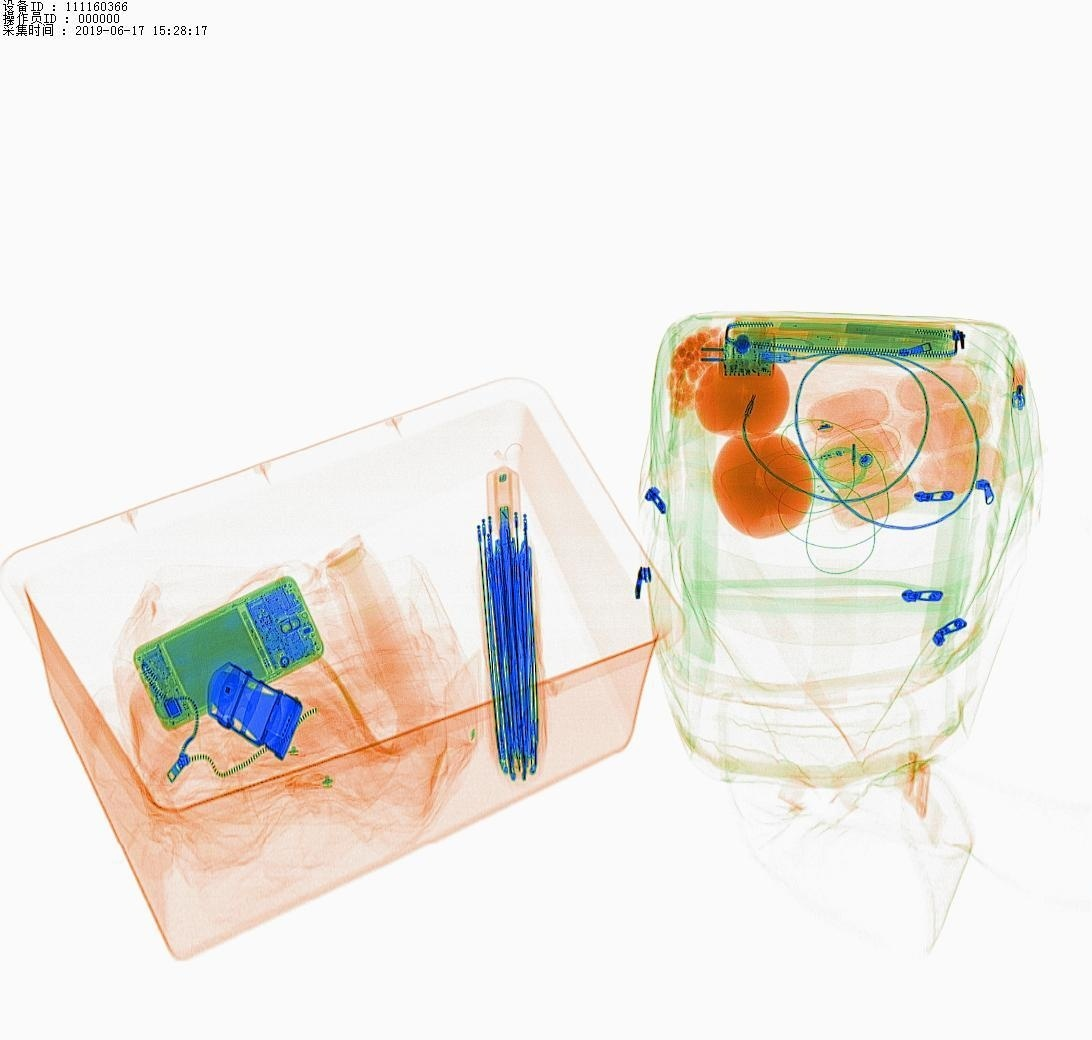NonmetallicFire: (996, 342, 1037, 434)
